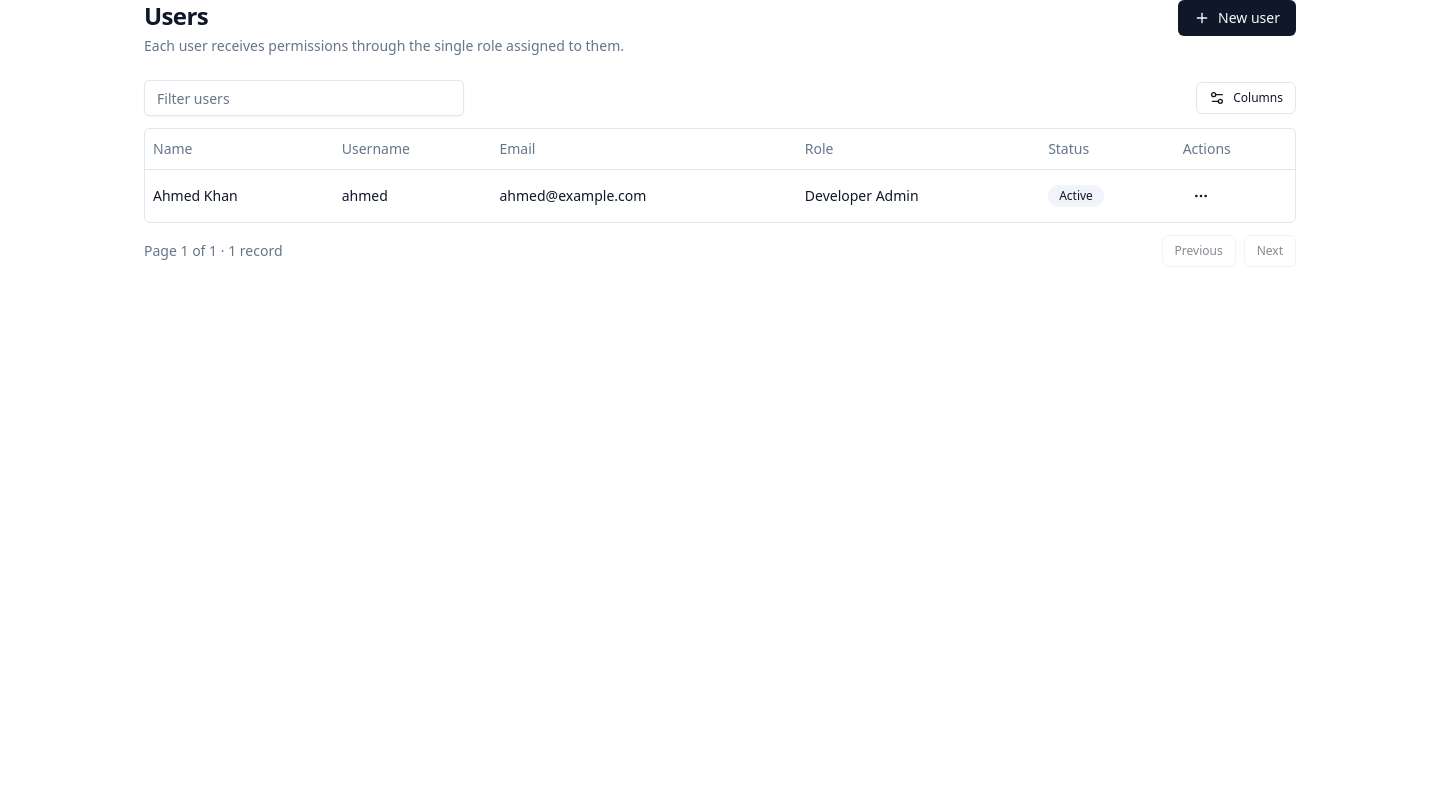
Test: UsersPage — deactivation (FR-U7) › names the real consequence: they cannot sign in
Step 1. Click the button named "Actions for ahmed" → coordinates (1201, 196), box [1183,178,1219,214]
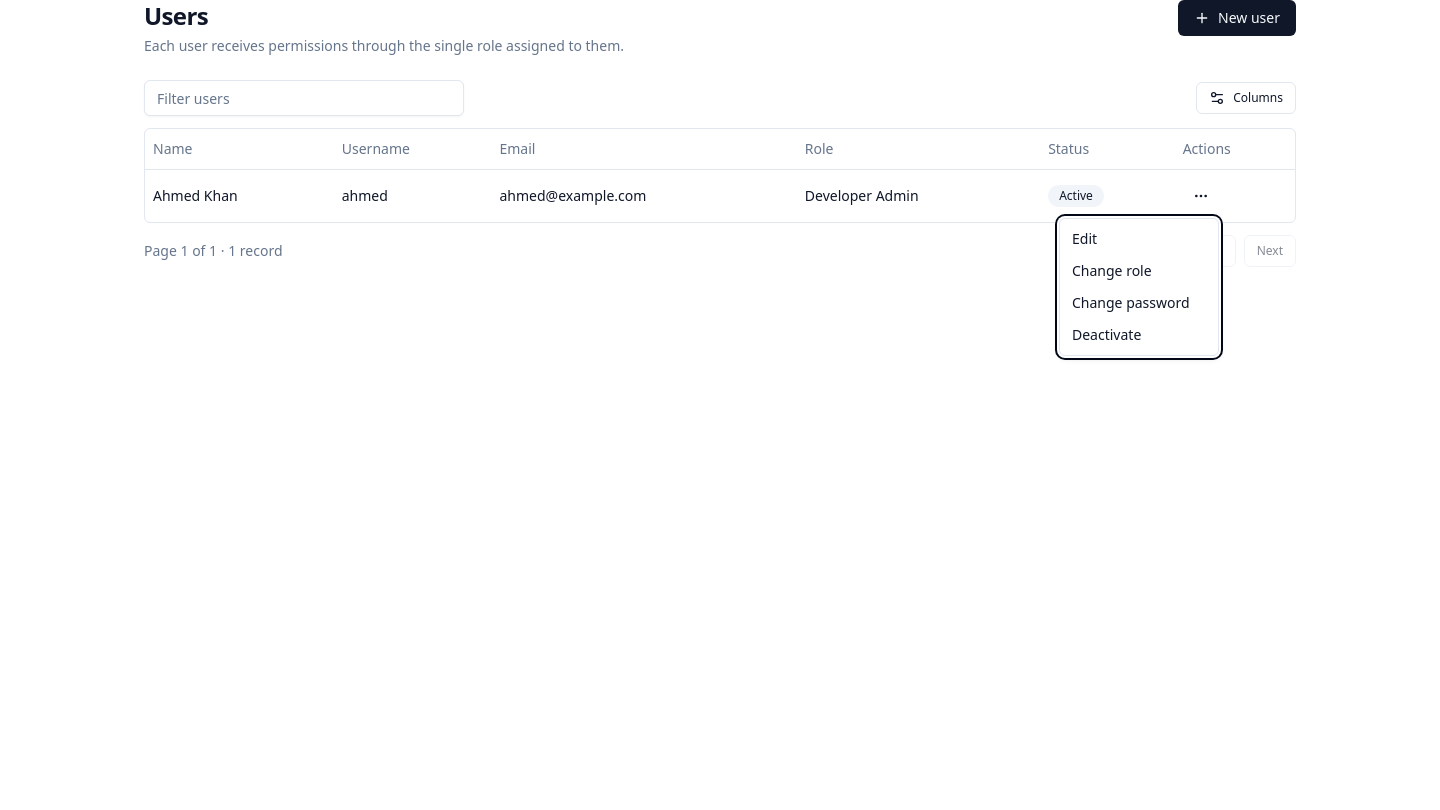
Step 2. Click the menu item "Deactivate" → coordinates (1107, 334), box [1072,325,1141,344]
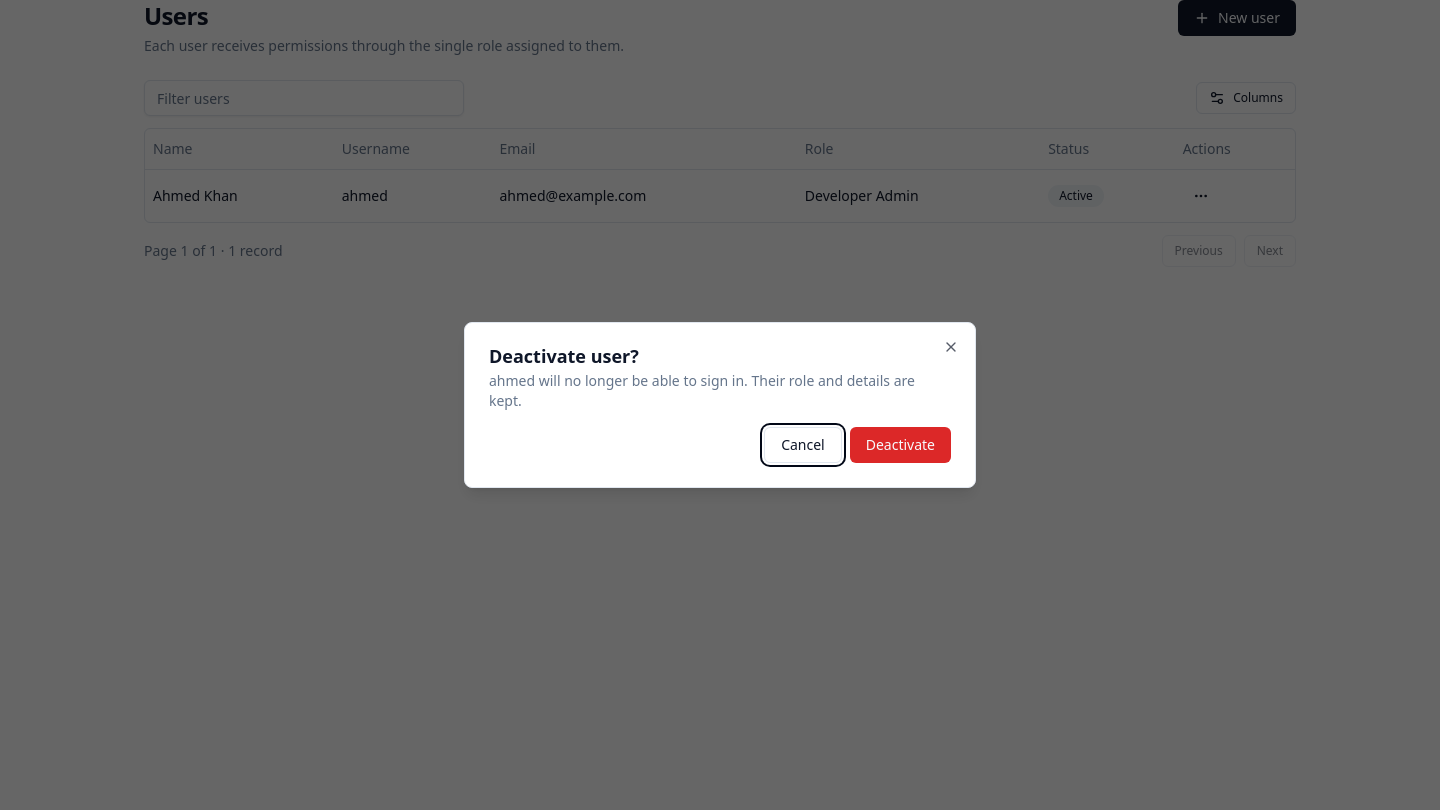
Expected: the text "no longer be able to sign in" is shown, [489,371,915,410]
